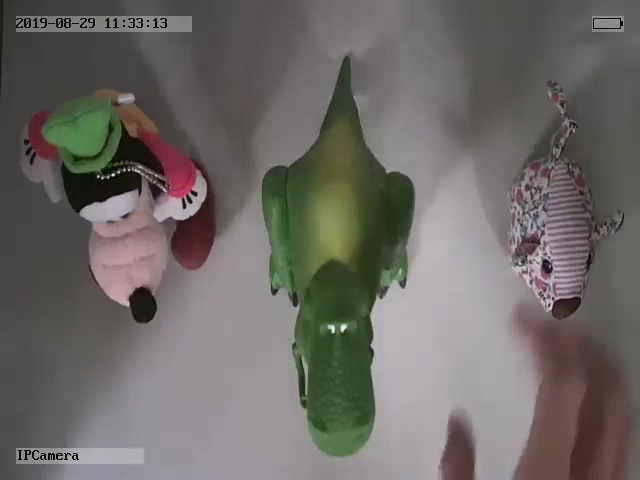goofy: (16, 87, 217, 326)
pig: (504, 79, 625, 317)
rex: (259, 53, 417, 457)
